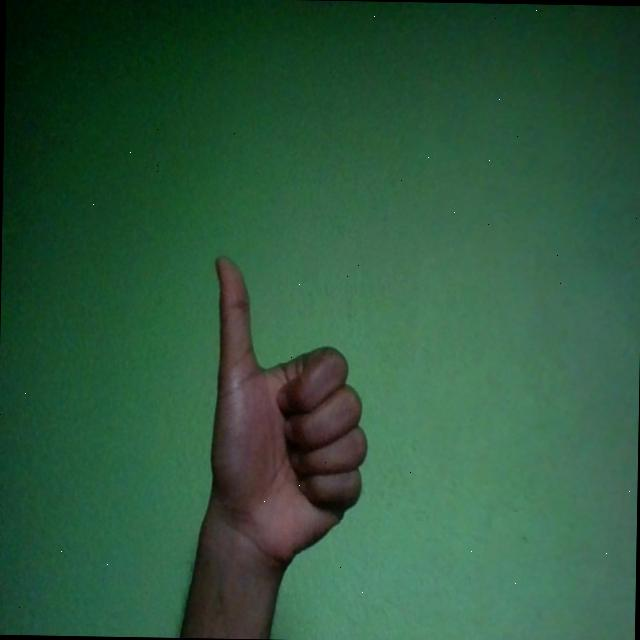Good Job: (208, 255, 371, 573)
